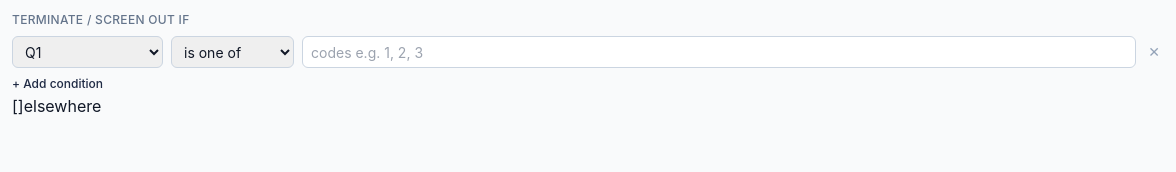
Test: codes box › survives a half-typed separator
Click the field named "condition values" at (719, 52), box [302,36,1136,68]
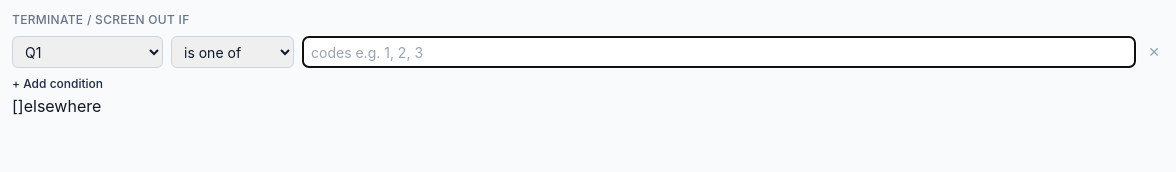
Type keys "1,"
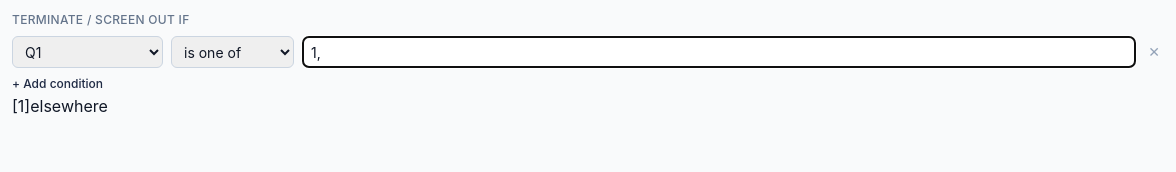
Result: the field named "condition values" holds "1," at [302,36,1136,68]
